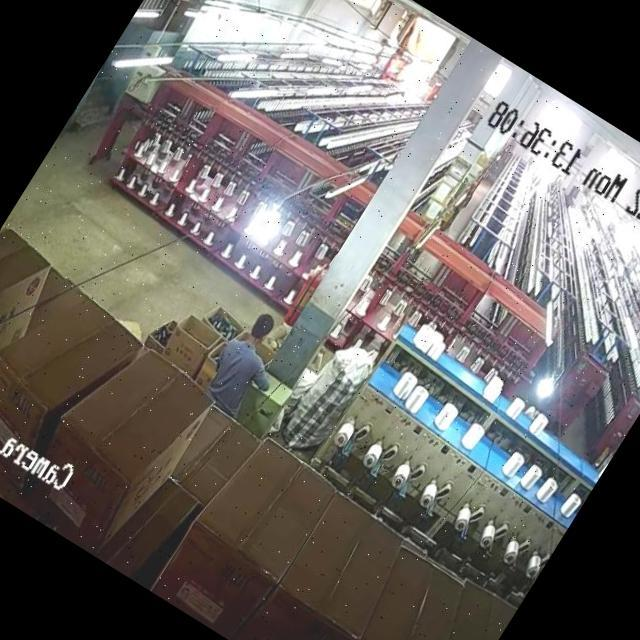person: (211, 304, 288, 398)
